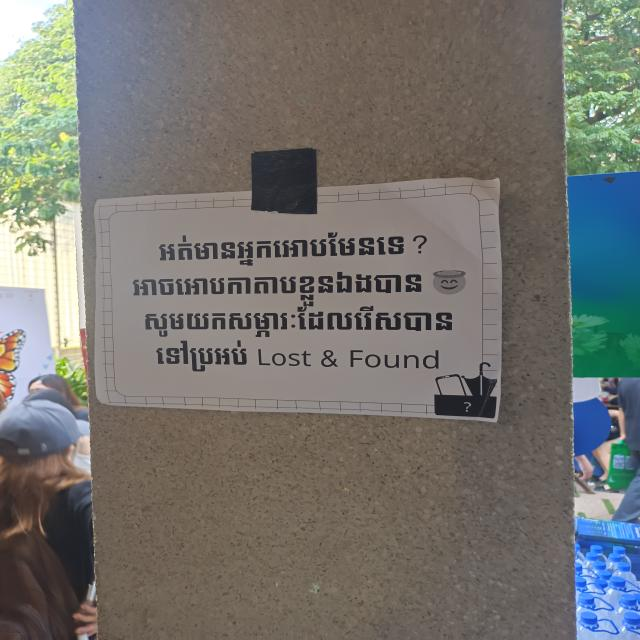Yolov11_80vkh: (128, 268, 425, 310), (139, 303, 459, 340), (154, 230, 411, 267), (151, 338, 254, 375)
